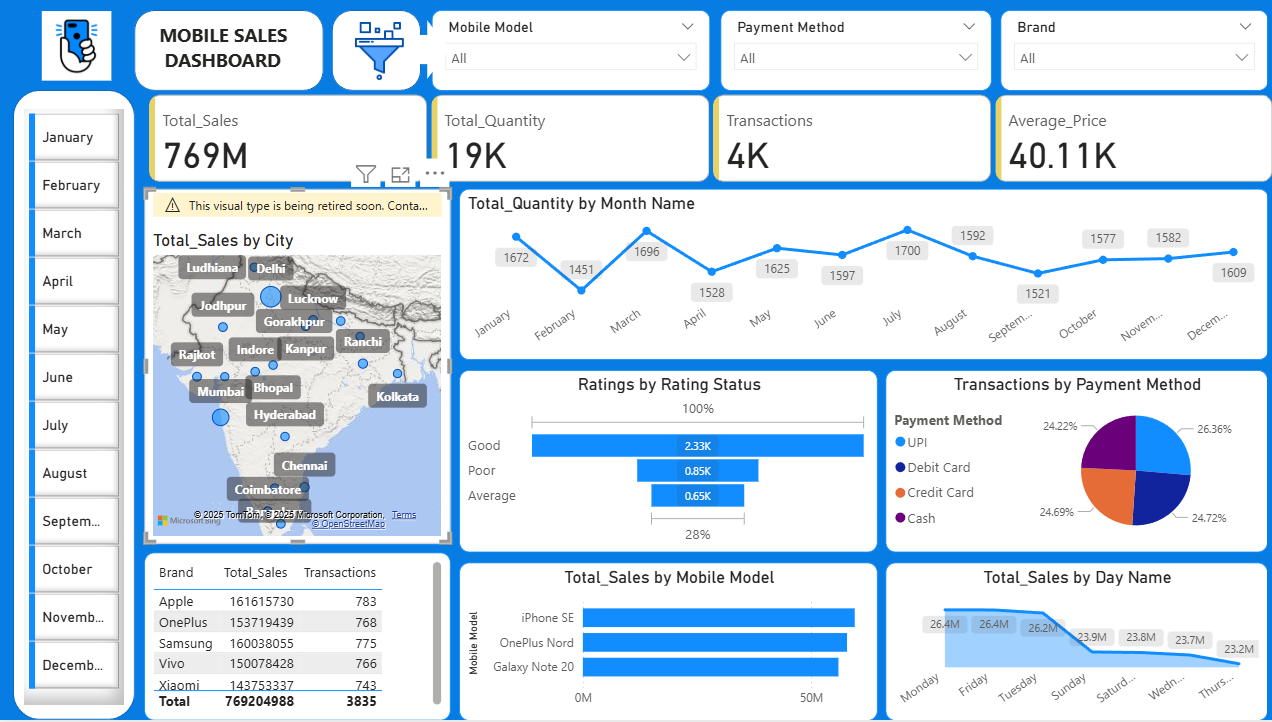

Layout of this report page (visuals, bound fields, positions):
{"tool":"powerbi","page":{"name":"Dashboard","canvas":[1280,720],"ordinal":0},"visuals":[{"type":"image","box":[14.5,6,126.7,79.6],"z":0},{"type":"shape","box":[14.5,90.5,121.9,629.8],"z":2000},{"type":"advancedSlicerVisual","fields":{"Values":["Custom_Calender.Month Name"]},"box":[26.5,108.6,100.1,596],"z":3000},{"type":"cardVisual","fields":{"Data":["Sales_Data.Total_Sales","Sales_Data.Total_Quantity","Sales_Data.Transactions","Sales_Data.Average_Price"]},"box":[146,90.5,1134.1,97.7],"z":4000},{"type":"slicer","fields":{"Values":["Sales_Data.Mobile Model"]},"box":[434.3,9.7,278.7,80.8],"z":5000},{"type":"slicer","fields":{"Values":["Sales_Data.Payment Method"]},"box":[722.7,9.7,271.4,80.8],"z":6000},{"type":"slicer","fields":{"Values":["Sales_Data.Brand"]},"box":[1002.6,9.7,267.8,80.8],"z":7000},{"type":"shape","box":[334.2,9.7,89.3,80.8],"z":8000},{"type":"image","box":[334.2,15.7,95.3,70],"z":9000},{"type":"shape","box":[406.6,20.5,45.8,59.1],"z":10000},{"type":"shape","box":[136.3,9.7,189.4,80.8],"z":11000},{"type":"textbox","box":[156.8,16.9,155.6,62.7],"z":12000},{"type":"map","fields":{"Size":["Sales_Data.Total_Sales"],"Category":["Sales_Data.City"]},"box":[146,188.2,306.4,355.9],"z":13000},{"type":"lineChart","fields":{"Y":["Sales_Data.Total_Quantity"],"Category":["Custom_Calender.Month Name"]},"box":[460.9,188.2,809.5,171.3],"z":14000},{"type":"funnel","title":"Ratings by Rating Status","fields":{"Y":["CountNonNull(Sales_Data.Customer Ratings)"],"Category":["Sales_Data.Rating Status"]},"box":[460.9,370.4,418.6,182.2],"z":15000},{"type":"pieChart","fields":{"Y":["Sales_Data.Transactions"],"Category":["Sales_Data.Payment Method"]},"box":[887.9,370.4,382.4,182.2],"z":16000},{"type":"clusteredBarChart","fields":{"Y":["Sales_Data.Total_Sales"],"Category":["Sales_Data.Mobile Model"]},"box":[460.9,562.2,418.6,158],"z":17000},{"type":"areaChart","fields":{"Y":["Sales_Data.Total_Sales"],"Category":["Custom_Calender.Day Name"]},"box":[887.9,562.2,382.4,158],"z":18000},{"type":"tableEx","fields":{"Values":["Sales_Data.Brand","Sales_Data.Total_Sales","Sales_Data.Transactions"]},"box":[146,552.5,306.4,167.7],"z":19000}]}

Visuals, with their boxes in screenshot pixels (x1, y1, x2, y2), scaled from the page's 1280x720 canvas onto the 1272x722 screenshot:
image: [14, 6, 140, 86]
shape: [14, 91, 136, 721]
advancedSlicerVisual - Custom_Calender.Month Name: [26, 109, 126, 707]
cardVisual - Sales_Data.Total_Sales x Sales_Data.Total_Quantity: [145, 91, 1271, 189]
slicer - Sales_Data.Mobile Model: [432, 10, 709, 91]
slicer - Sales_Data.Payment Method: [718, 10, 988, 91]
slicer - Sales_Data.Brand: [996, 10, 1262, 91]
shape: [332, 10, 421, 91]
image: [332, 16, 427, 86]
shape: [404, 21, 450, 80]
shape: [135, 10, 324, 91]
textbox: [156, 17, 310, 80]
map - Sales_Data.Total_Sales x Sales_Data.City: [145, 189, 450, 546]
lineChart - Sales_Data.Total_Quantity x Custom_Calender.Month Name: [458, 189, 1262, 360]
"Ratings by Rating Status" funnel: [458, 371, 874, 554]
pieChart - Sales_Data.Transactions x Sales_Data.Payment Method: [882, 371, 1262, 554]
clusteredBarChart - Sales_Data.Total_Sales x Sales_Data.Mobile Model: [458, 564, 874, 721]
areaChart - Sales_Data.Total_Sales x Custom_Calender.Day Name: [882, 564, 1262, 721]
tableEx - Sales_Data.Brand x Sales_Data.Total_Sales: [145, 554, 450, 721]
